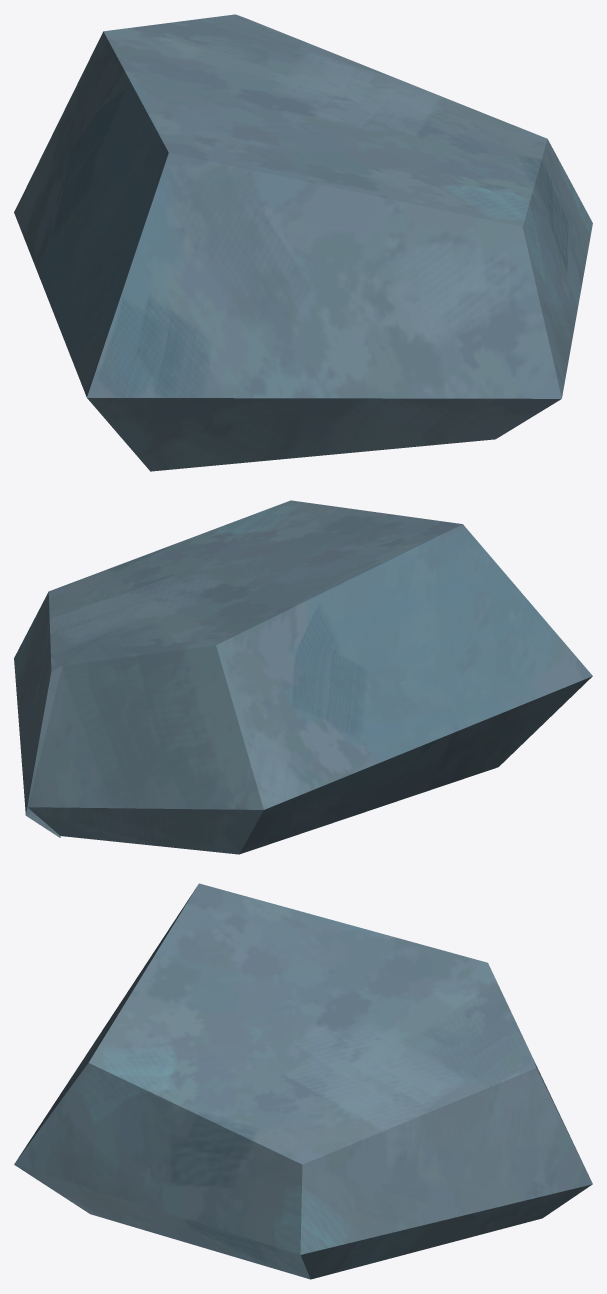
Rendered from stone8.fbx.
3 views of the same model, one above another, from view 1: azimuth 30°, elevation 25°; view 2: azimuth 150°, elevation 25°; view 3: azimuth 270°, elevation 25° (orthographic). The views are drawn at different scales.
Parts seen in each view (by area): view 1: stone8; view 2: stone8; view 3: stone8.
Part boxes in pixels (x1,y1,x2,y2): stone8: [14, 14, 592, 471]; stone8: [14, 500, 592, 854]; stone8: [14, 883, 592, 1279].
Bounding box in the file's own units: 383 × 181 × 403.
